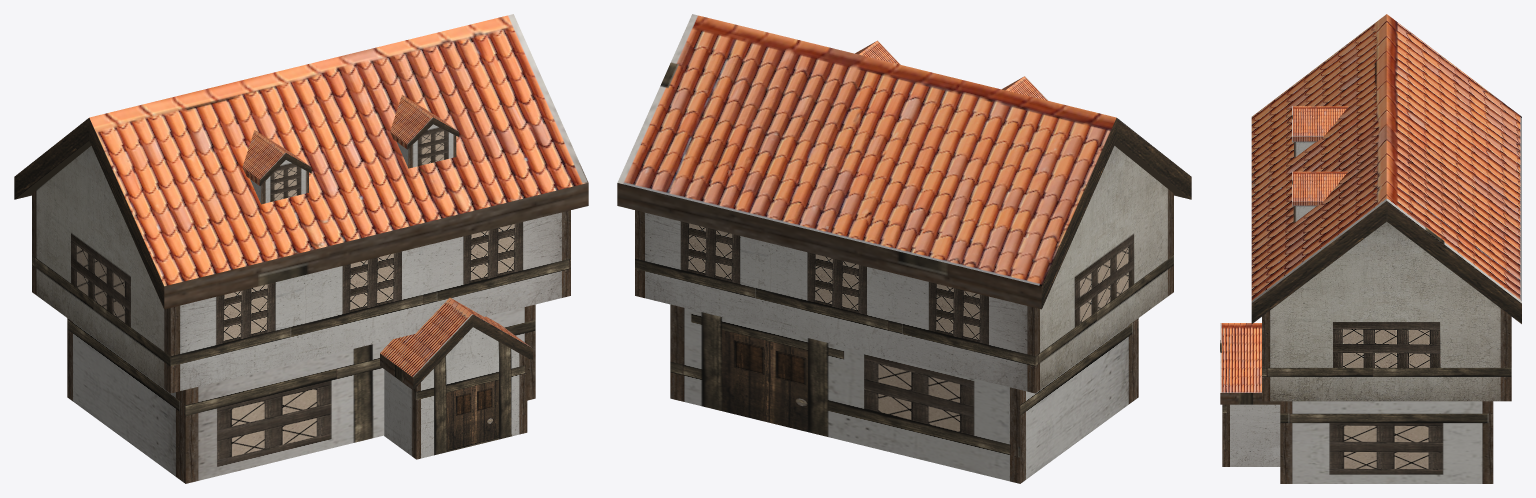
The model's file is building.glb.
3 renders of one model, left to right at view 1: azimuth 30°, elevation 25°; view 2: azimuth 150°, elevation 25°; view 3: azimuth 270°, elevation 25°, orthographic. The views are drawn at different scales.
Visible parts, largest first — view 1: Building1; view 2: Building1; view 3: Building1.
Boxes of the visible parts, x1=… form: Building1: x1=14, y1=14, x2=588, y2=483; Building1: x1=617, y1=14, x2=1191, y2=483; Building1: x1=1220, y1=14, x2=1521, y2=483.
Bounding box in the file's own units: 354 × 265 × 242.
1 material, 1 textured.
